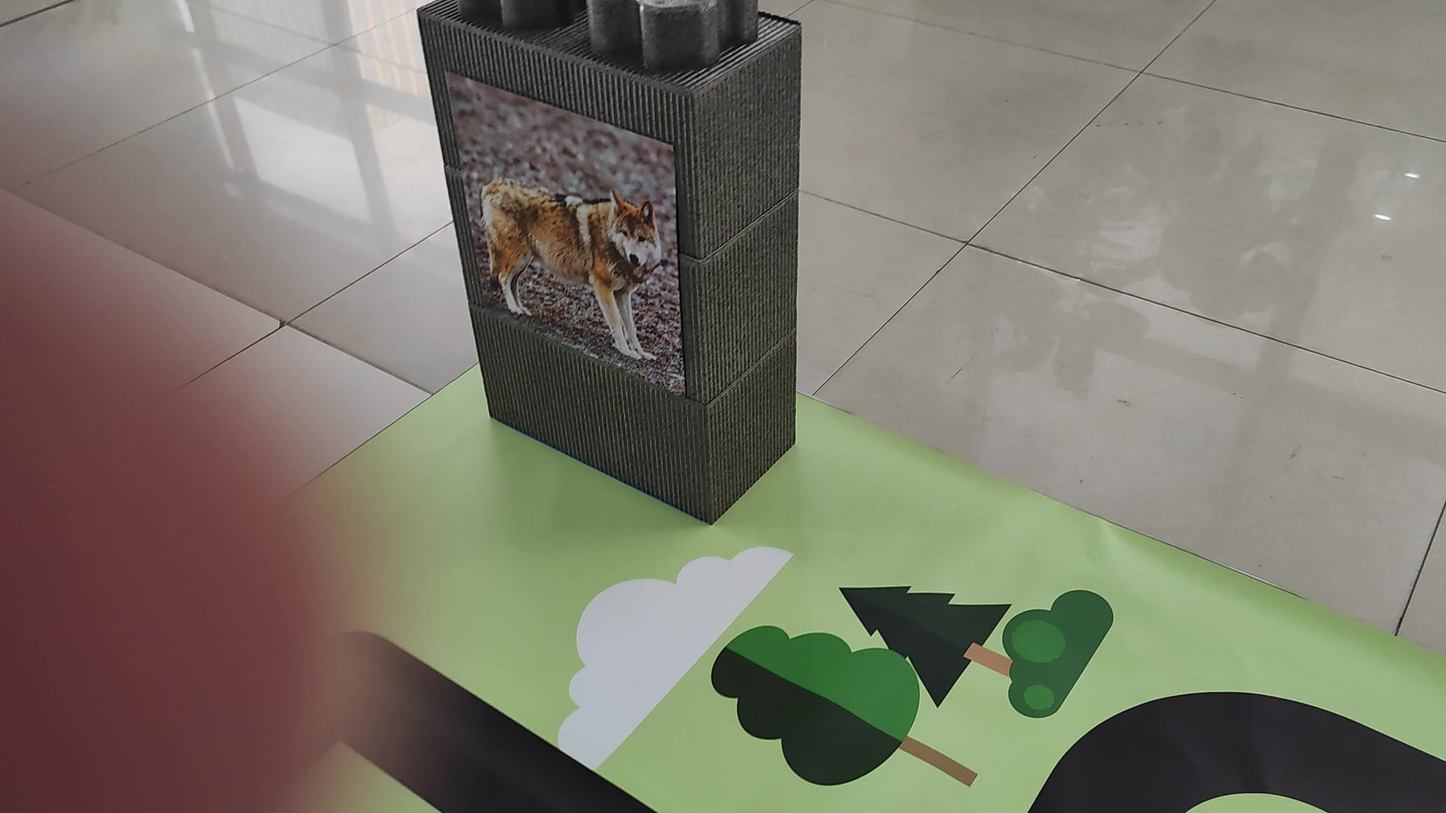wolf: (460, 164, 680, 367)
